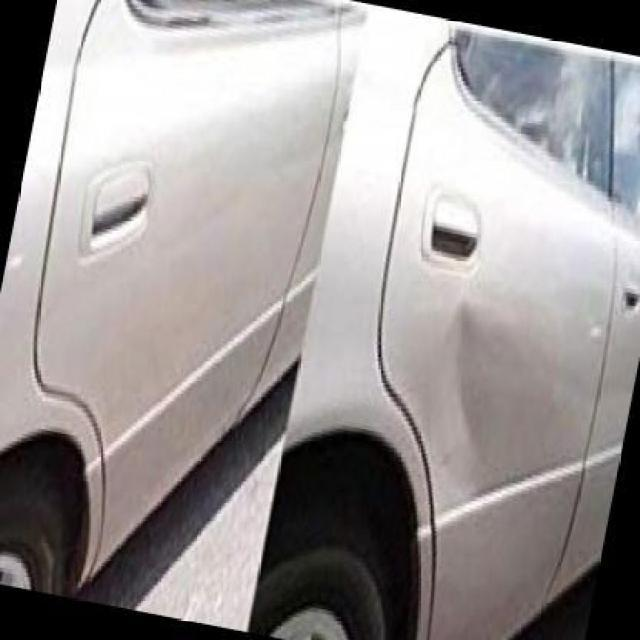dent: (446, 308, 545, 486)
